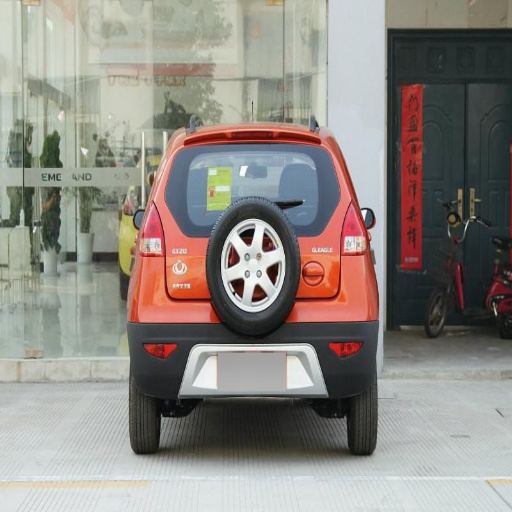trunk: (143, 147, 348, 320)
